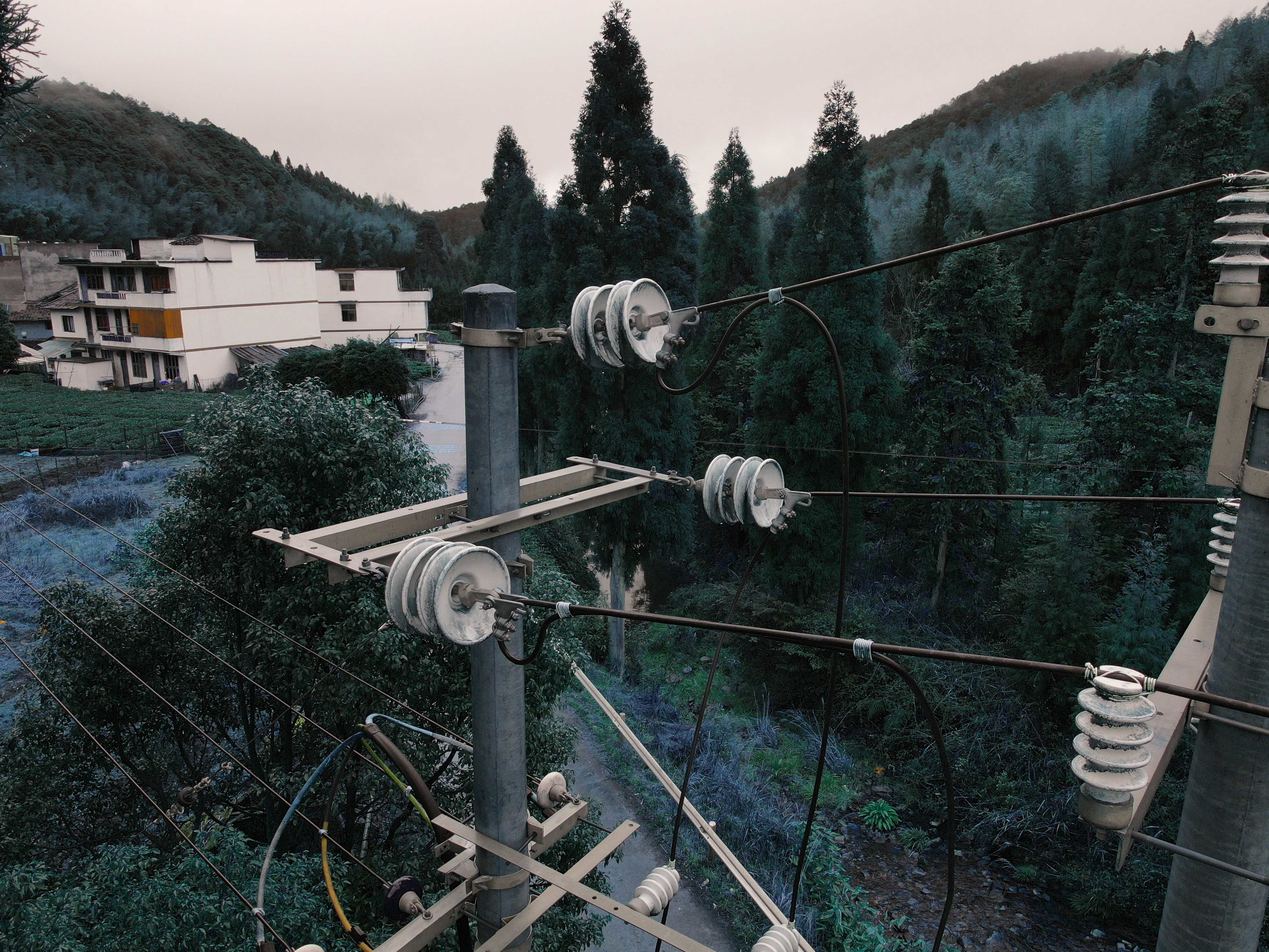severe_soiling_no_discharge_whole: (1064, 663, 1162, 830), (381, 533, 512, 648), (566, 278, 670, 373), (1204, 169, 1266, 304), (695, 451, 785, 529), (1202, 497, 1238, 586), (628, 862, 681, 919), (534, 771, 567, 811)
